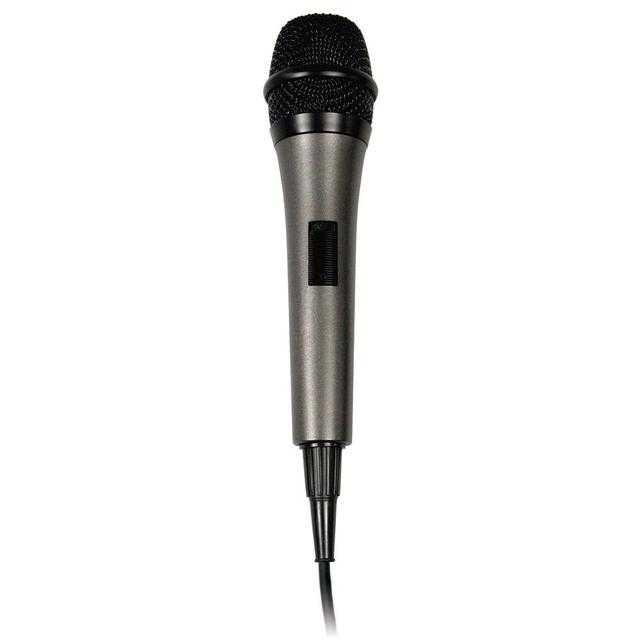microphone: (255, 5, 388, 617)
